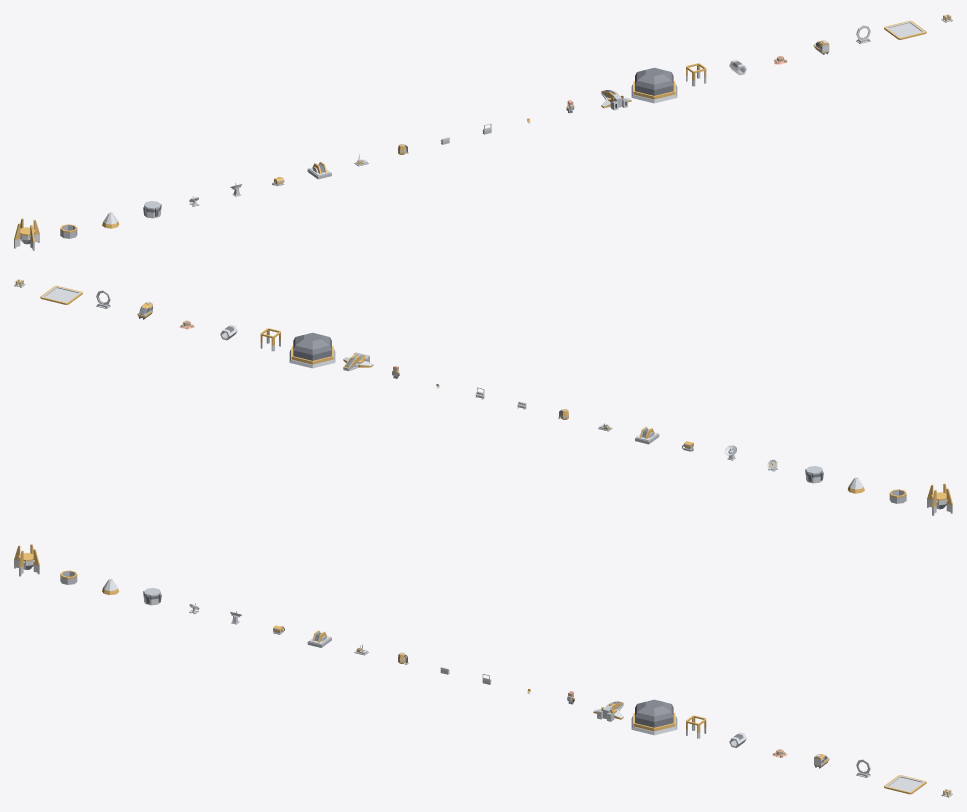
The model's file is space.glb.
The picture shows the model from 3 angles, top to bottom: view 1: azimuth 30°, elevation 25°; view 2: azimuth 150°, elevation 25°; view 3: azimuth 330°, elevation 25°; orthographic projection.
Visible parts, largest first — view 1: hangar_roundGlass-part0, rocket_baseA-part0, platform_large-part0; view 2: hangar_roundGlass-part0, rocket_baseA-part0, platform_large-part0; view 3: hangar_roundGlass-part0.
Part boxes in pixels (x1,y1,x2,y2): hangar_roundGlass-part0: [631, 67, 677, 103]; rocket_baseA-part0: [14, 218, 39, 250]; platform_large-part0: [884, 20, 926, 39]; hangar_roundGlass-part0: [289, 332, 335, 368]; rocket_baseA-part0: [927, 483, 952, 515]; platform_large-part0: [40, 285, 82, 304]; hangar_roundGlass-part0: [631, 699, 677, 735].
Size of the model in its own units: 67.17 by 1.6 by 2.83.
